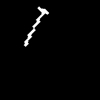half_double_crochet: (25, 7, 47, 45)
